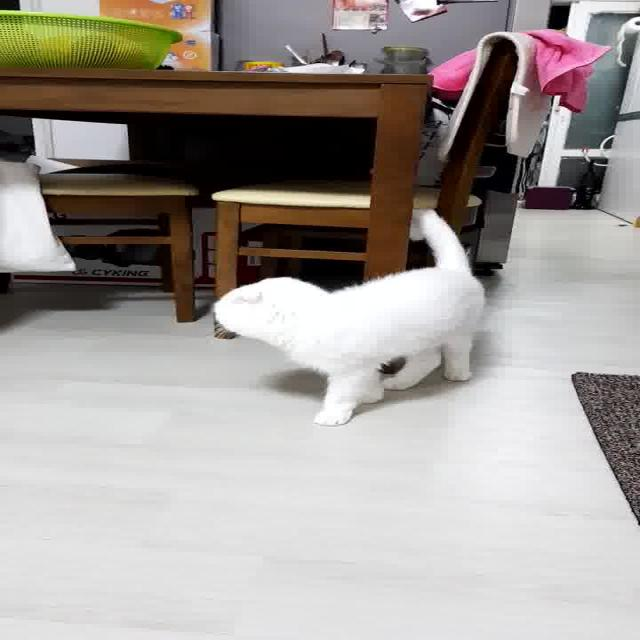cat: (205, 202, 495, 429)
